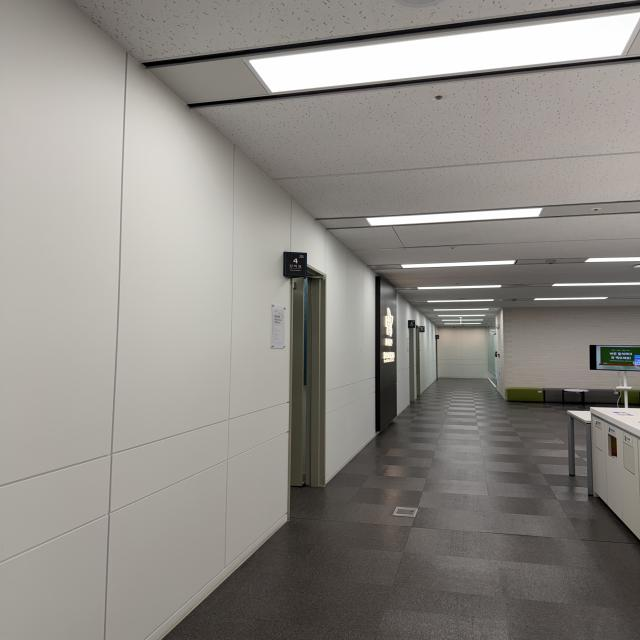room4: (287, 252, 308, 278)
